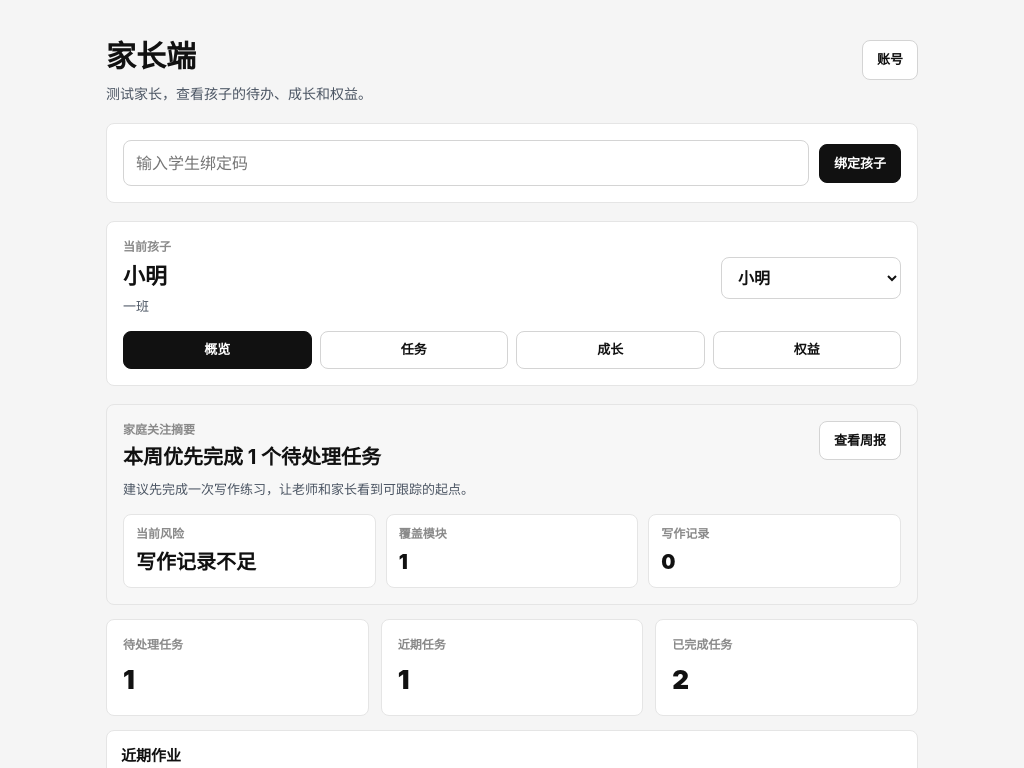
Test case: AppPageContent › loads parent child tabs from the parent APIs
The width and height of the screenshot is (1024, 768).
Expected: the text "小明" is shown, [123,260,171,293]
Expected: the text "家庭关注摘要" is shown, [123,422,195,437]
What coordinates should you click on to do the following:
click the button "查看周报"
I would click on:
 (860, 441)
Its box is [819,421,901,460].
(page scrolled)
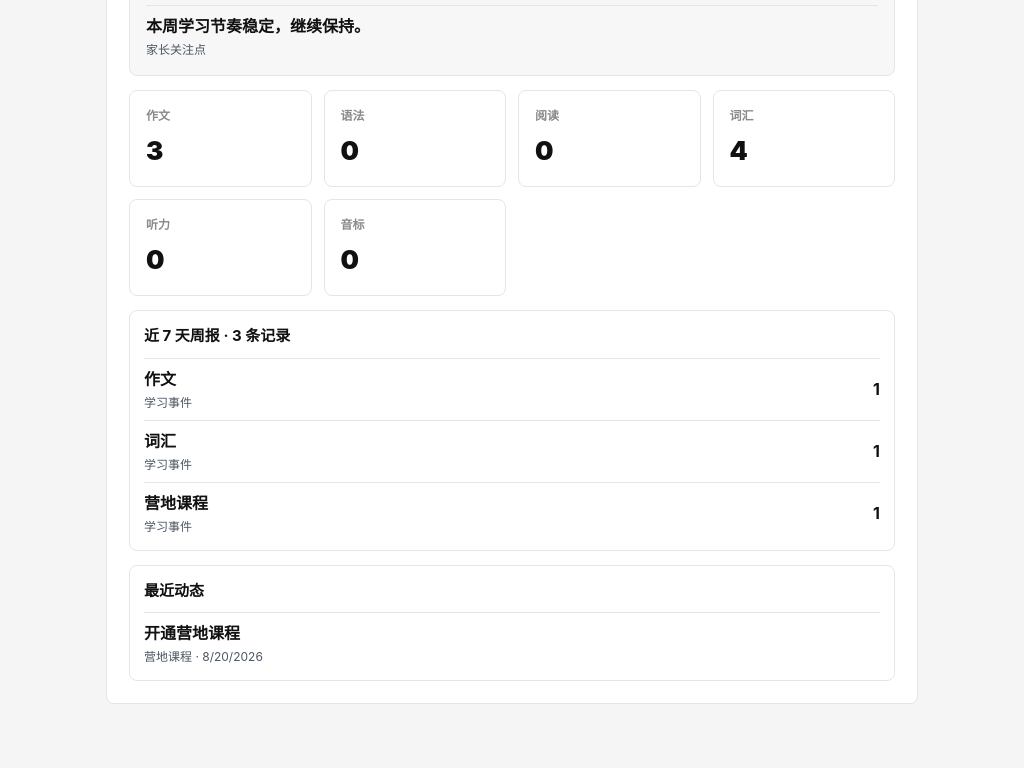
Now the text "本周学习节奏稳定，继续保持。" is shown, box [146,16,370,36]
Now the text "开通营地课程" is shown, box [144,623,240,643]
